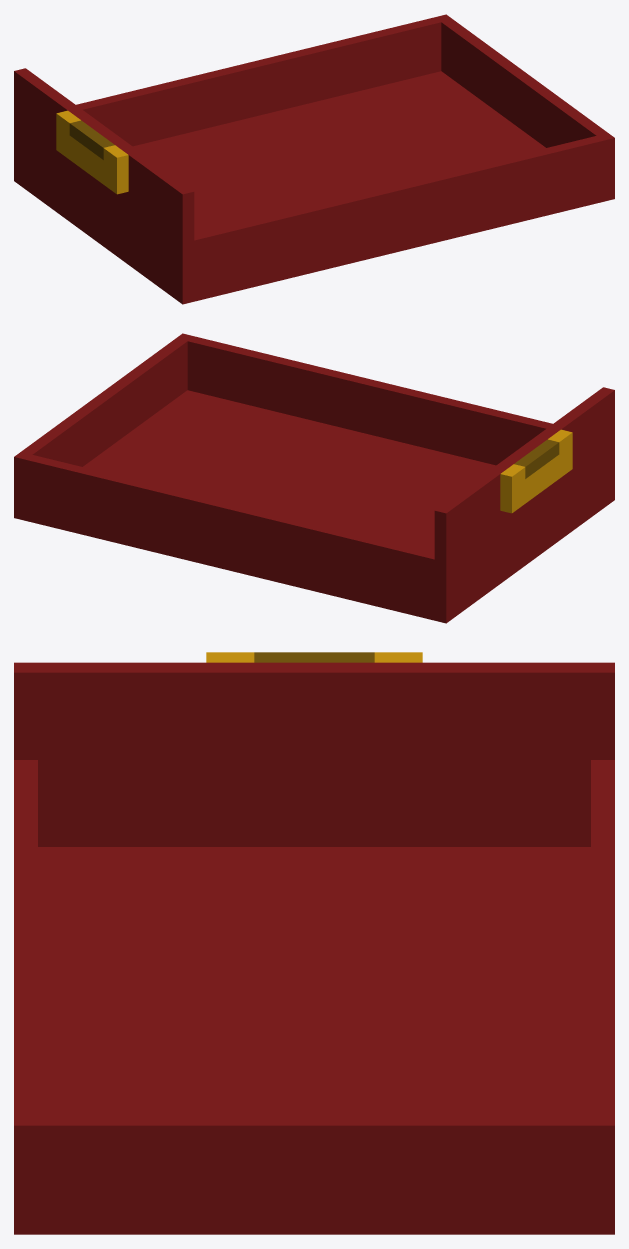
File: CajonChicoSano.fbx
The picture shows the model from 3 angles, top to bottom: view 1: azimuth 30°, elevation 25°; view 2: azimuth 150°, elevation 25°; view 3: azimuth 270°, elevation 25°; orthographic projection. The views are drawn at different scales.
Parts seen in each view (by area): view 1: Cajon_Chico_Sano; view 2: Cajon_Chico_Sano; view 3: Cajon_Chico_Sano.
Boxes of the visible parts, bbox=[...] form: Cajon_Chico_Sano: bbox=[14, 14, 614, 304]; Cajon_Chico_Sano: bbox=[14, 333, 614, 623]; Cajon_Chico_Sano: bbox=[14, 652, 614, 1234].
Size of the model in its own units: 380 by 90 by 250.
